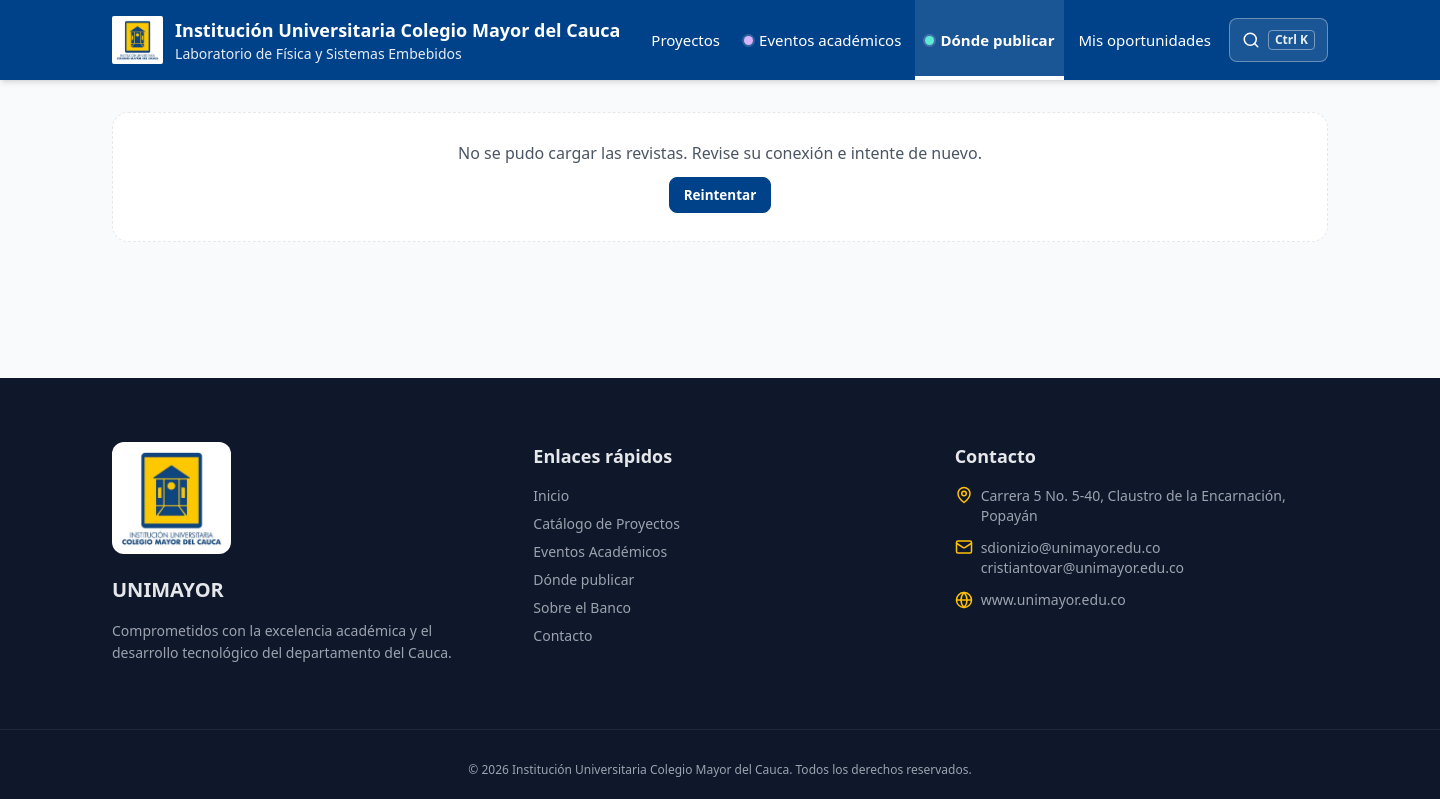
Test: /donde-publicar?p=proj_001 › says what could not be loaded and «Reintentar» downloads it again and recovers
The image size is (1440, 799).
Check: the message shows "No se pudo cargar las revistas", box [112,112,1328,242]
Check: the heading "Monitoreo agrícola con MQTT" is not shown
What coordinates should you click on to do the following:
click the button "Reintentar"
I would click on:
 (720, 195)
Its box is [669,177,771,213].
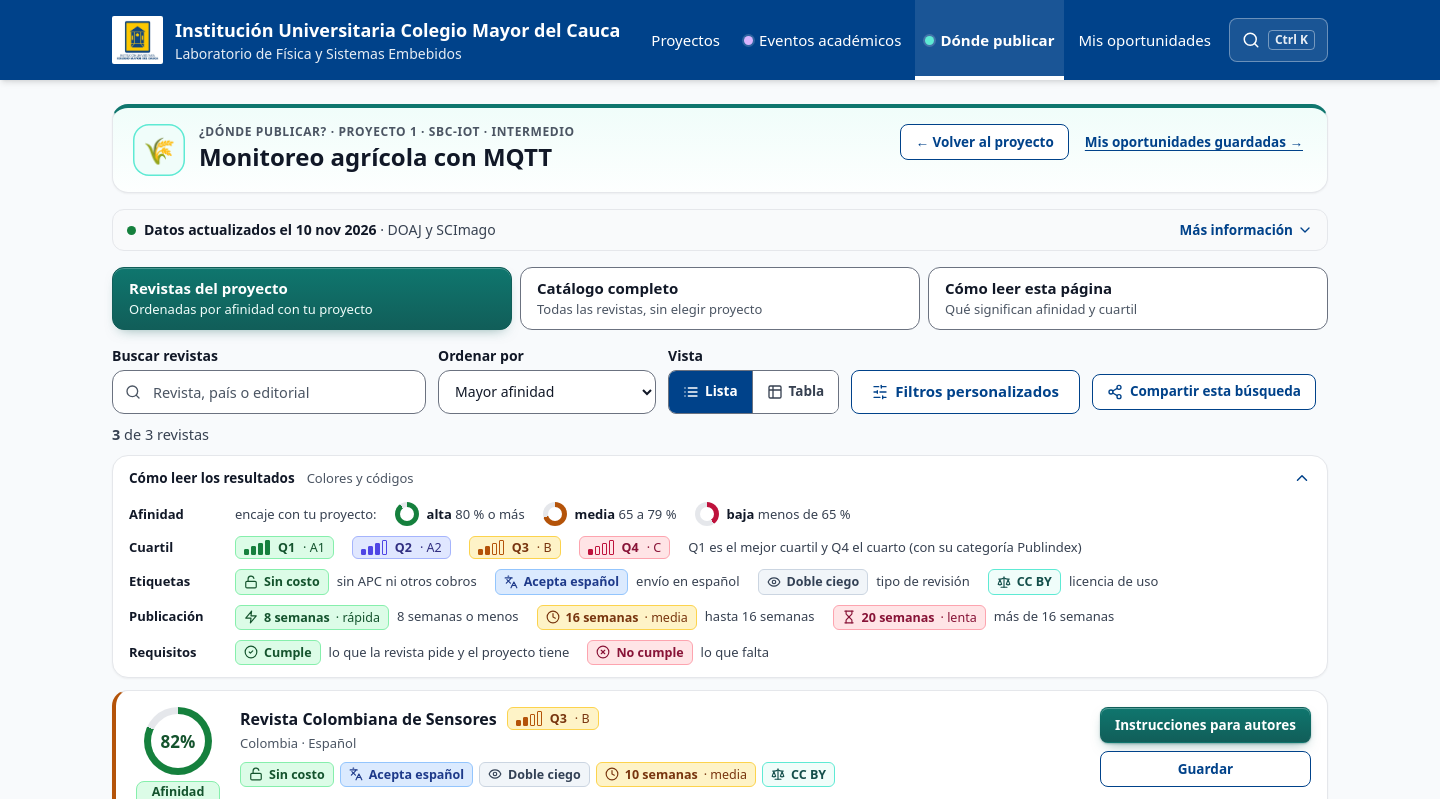
Check: the heading "Monitoreo agrícola con MQTT" is shown, box [199,142,575,172]
Check: the message is gone
